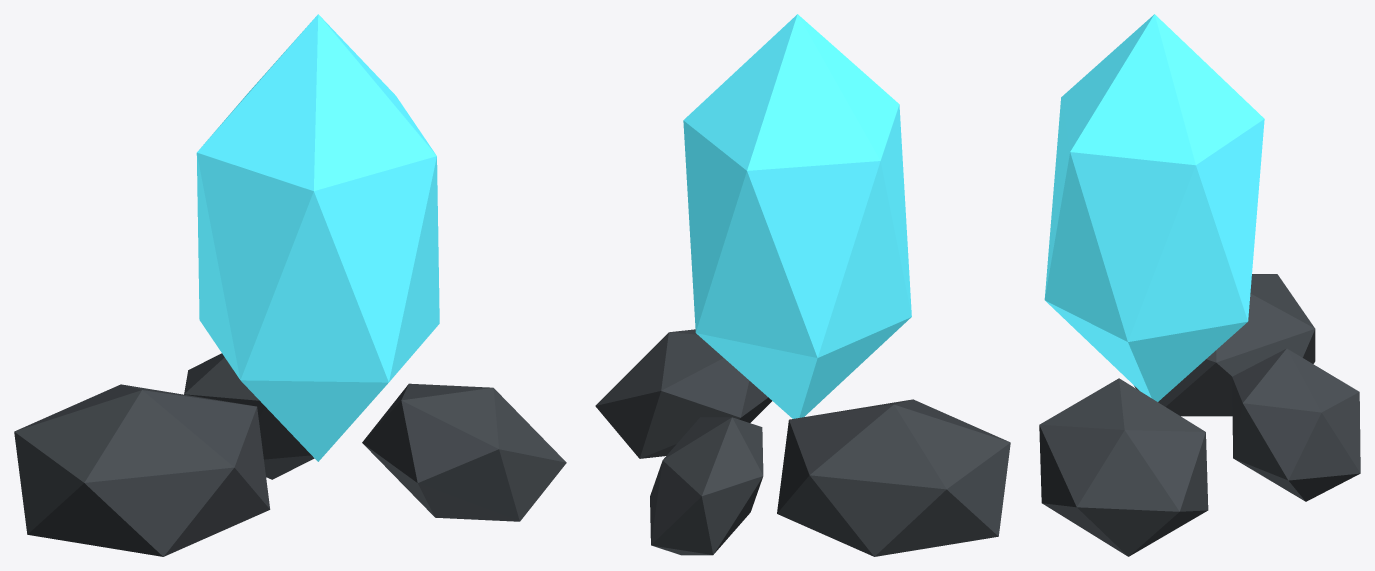
The model's file is hero.glb.
The picture shows the model from 3 angles, left to right: view 1: azimuth 30°, elevation 25°; view 2: azimuth 150°, elevation 25°; view 3: azimuth 270°, elevation 25°; orthographic projection. The views are drawn at different scales.
Parts seen in each view (by area): view 1: Icosphere, Icosphere.001, Icosphere.002, Icosphere.003; view 2: Icosphere, Icosphere.001, Icosphere.003, Icosphere.002; view 3: Icosphere, Icosphere.002, Icosphere.003, Icosphere.001.
Part boxes in pixels (box(x1,y1,x2,y2)): Icosphere: box(196, 14, 439, 461); Icosphere.001: box(14, 384, 270, 556); Icosphere.002: box(362, 383, 566, 521); Icosphere.003: box(184, 353, 314, 479); Icosphere: box(683, 14, 911, 418); Icosphere.001: box(777, 399, 1010, 556); Icosphere.003: box(650, 417, 763, 555); Icosphere.002: box(595, 329, 771, 458); Icosphere: box(1044, 14, 1264, 401); Icosphere.002: box(1039, 378, 1208, 556); Icosphere.003: box(1232, 348, 1360, 501); Icosphere.001: box(1134, 274, 1315, 416).
Size of the model in its own units: 3.78 by 4.21 by 2.61.
